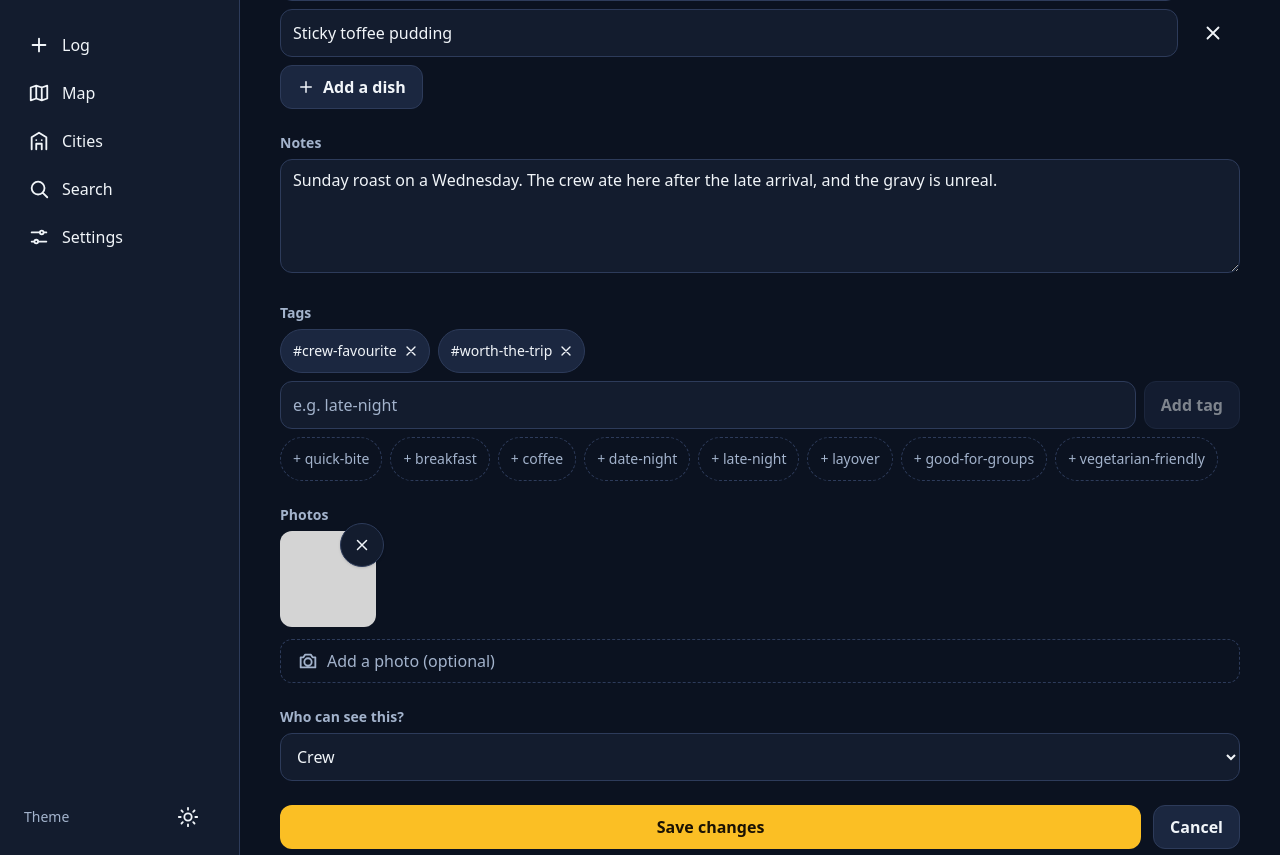
Test case: Entry edit › does not submit the form when pressing Enter in the tag box
(page scrolled)
In the field labelled "Tags": x=708, y=405 [280,381,1136,429], type "brand-new"
Then press Enter
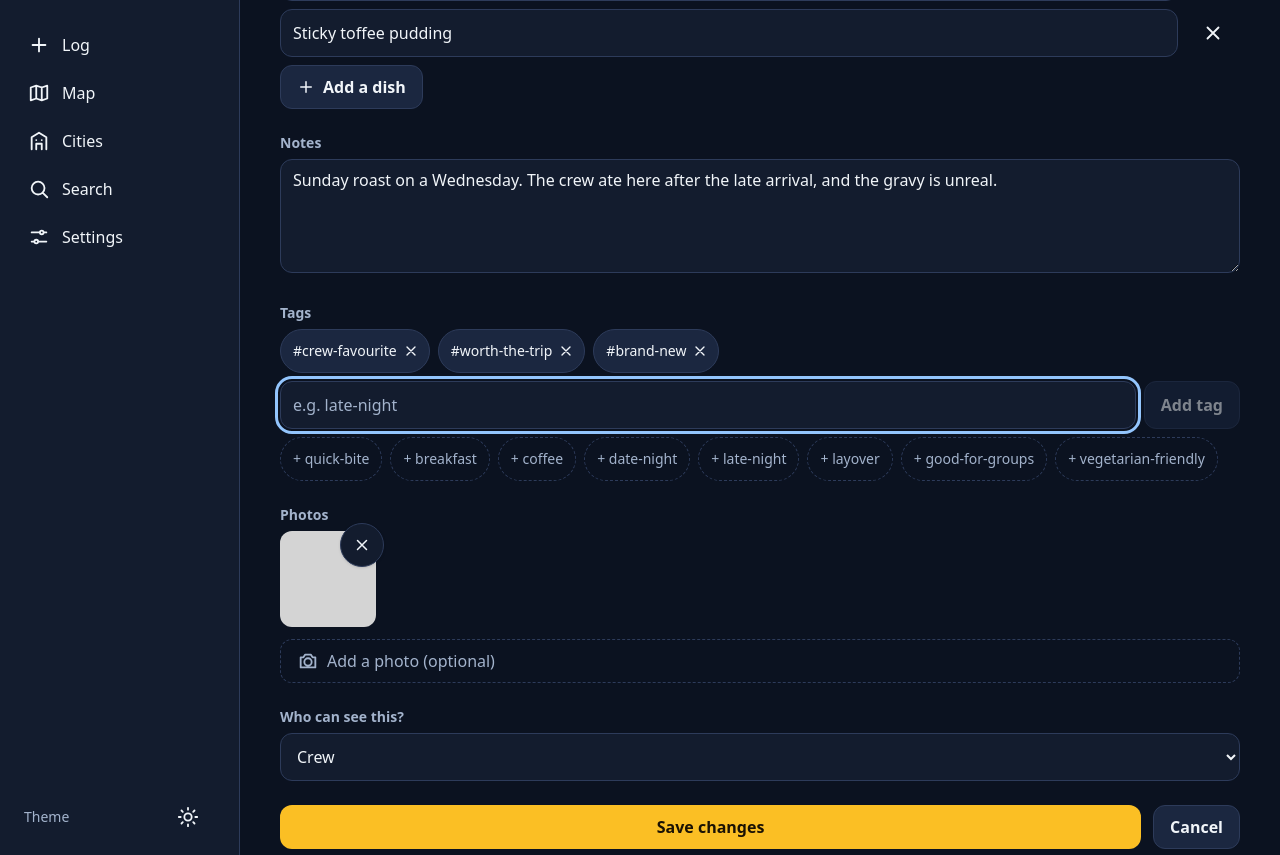
Check: the button named "Remove tag brand-new" is shown, box [593,329,719,373]
